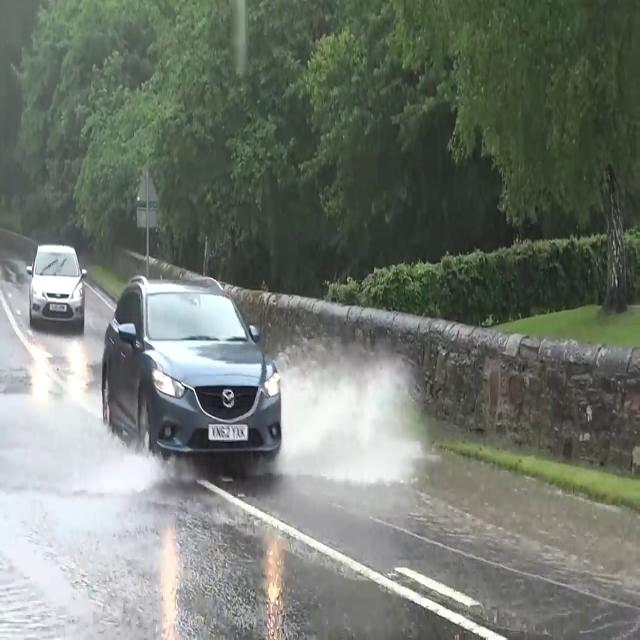license-plate-annotation: (206, 419, 250, 447)
